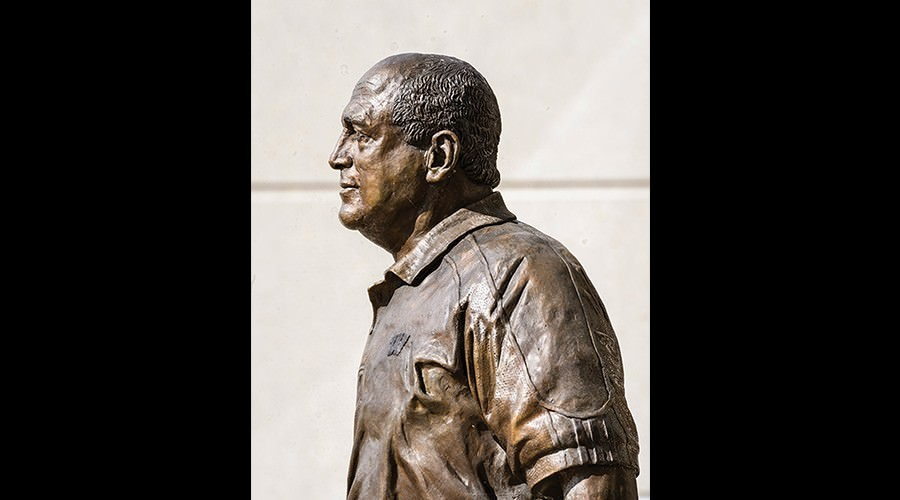person-like: (324, 48, 643, 500)
